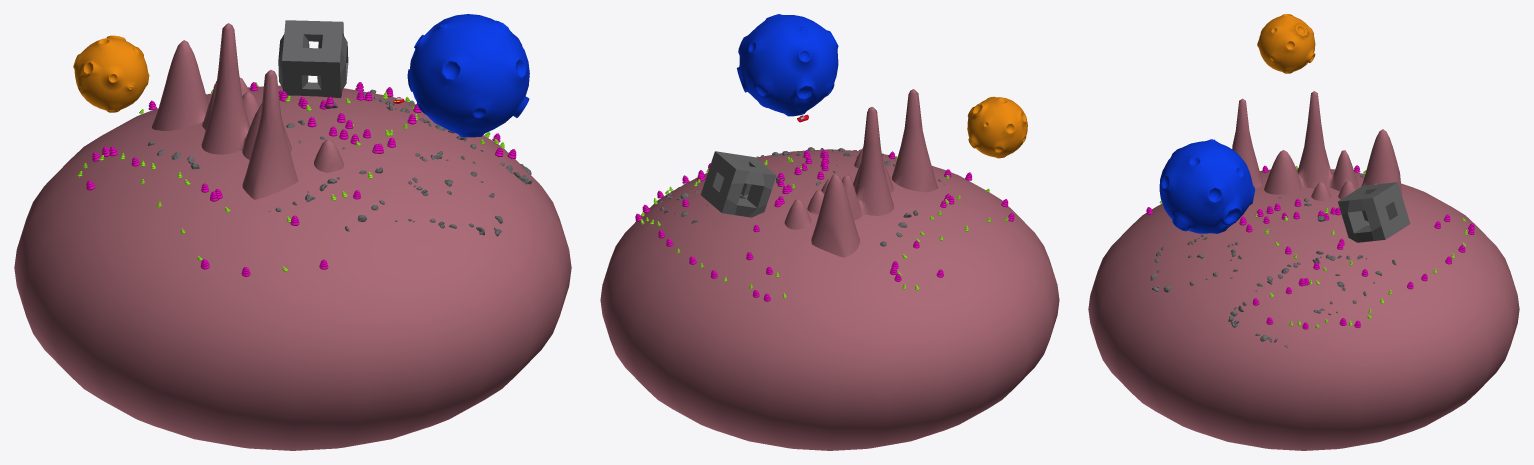
File: mars_3.glb
The picture shows the model from 3 angles, left to right: view 1: azimuth 30°, elevation 25°; view 2: azimuth 150°, elevation 25°; view 3: azimuth 270°, elevation 25°; orthographic projection. The views are drawn at different scales.
Parts seen in each view (by area): view 1: sol, Planette_2, bloc, planette_1, trees, rock; view 2: sol, Planette_2, bloc, planette_1, trees, rock; view 3: sol, Planette_2, bloc, planette_1, trees, rock.
Boxes of the visible parts, box(x1,y1,x2,y2) form: sol: box(14, 23, 571, 450); Planette_2: box(407, 14, 529, 137); bloc: box(278, 20, 348, 98); planette_1: box(73, 35, 149, 112); trees: box(77, 82, 516, 276); rock: box(148, 89, 532, 236); sol: box(600, 89, 1059, 450); Planette_2: box(737, 14, 838, 116); bloc: box(700, 151, 776, 217); planette_1: box(967, 96, 1027, 158); trees: box(635, 150, 1014, 301); rock: box(658, 147, 944, 246); sol: box(1088, 91, 1519, 450); Planette_2: box(1159, 139, 1255, 233); bloc: box(1338, 182, 1410, 242); planette_1: box(1257, 14, 1315, 73); trees: box(1146, 165, 1474, 329); rock: box(1150, 170, 1396, 347).
Size of the model in its own units: 358 by 301 by 358.
